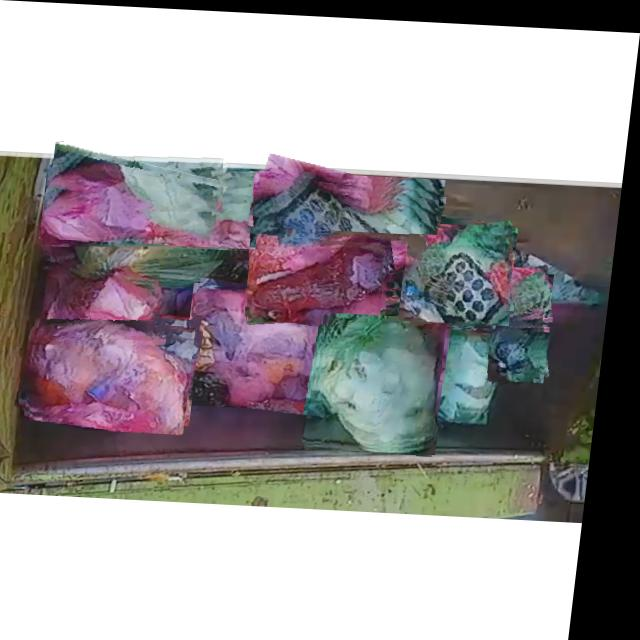general_trashbag: (328, 310, 447, 444), (57, 142, 228, 209), (255, 174, 444, 230), (410, 223, 519, 319), (446, 323, 514, 418), (498, 320, 548, 376)
other_trashbag: (40, 311, 198, 432), (48, 174, 296, 247), (203, 284, 338, 402), (256, 236, 390, 318), (291, 222, 433, 288), (50, 265, 163, 338), (460, 261, 552, 325), (162, 430, 166, 430)
